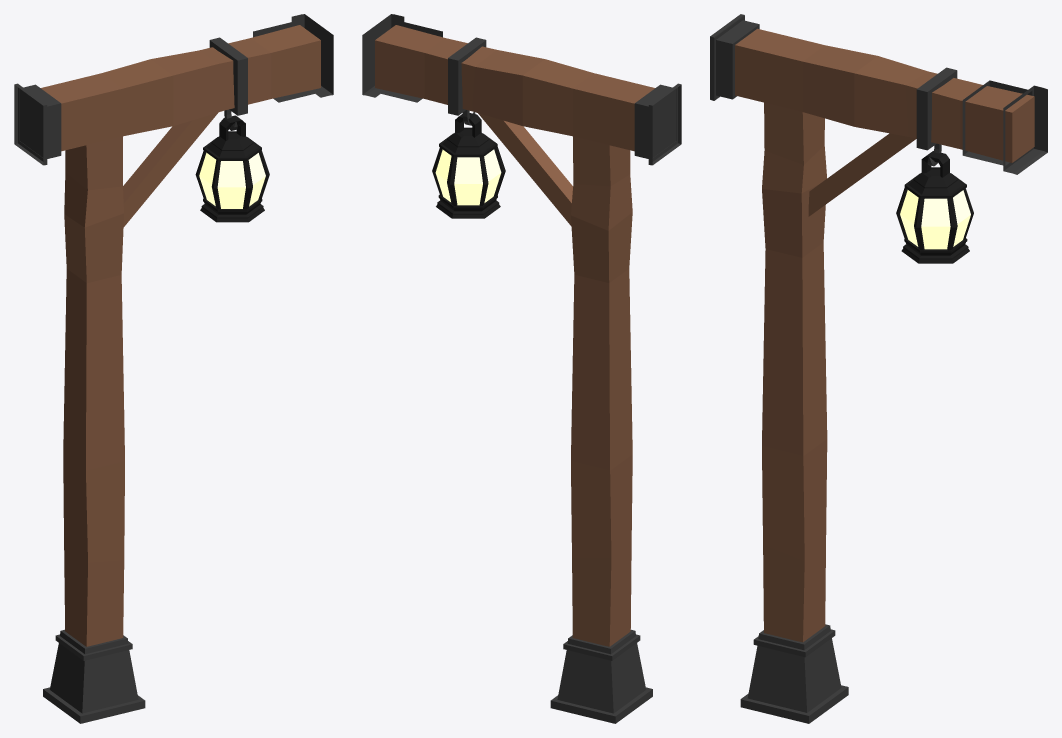
Rendered from lamp.glb.
The picture shows the model from 3 angles, left to right: view 1: azimuth 30°, elevation 25°; view 2: azimuth 150°, elevation 25°; view 3: azimuth 330°, elevation 25°; orthographic projection. The views are drawn at different scales.
Visible parts, largest first — view 1: Lamppost1.001; view 2: Lamppost1.001; view 3: Lamppost1.001.
Boxes of the visible parts, x1=… form: Lamppost1.001: x1=14, y1=14, x2=333, y2=723; Lamppost1.001: x1=362, y1=14, x2=681, y2=723; Lamppost1.001: x1=710, y1=14, x2=1047, y2=723.
Size of the model in its own units: 1.96 by 4.03 by 0.4662.
